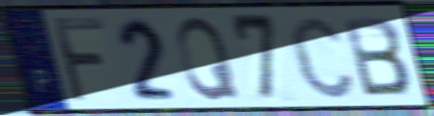2: (116, 12, 186, 106)
7: (226, 11, 280, 105)
B: (340, 14, 413, 98)
C: (286, 12, 359, 102)
F: (49, 15, 110, 106)
Q: (174, 14, 242, 103)
